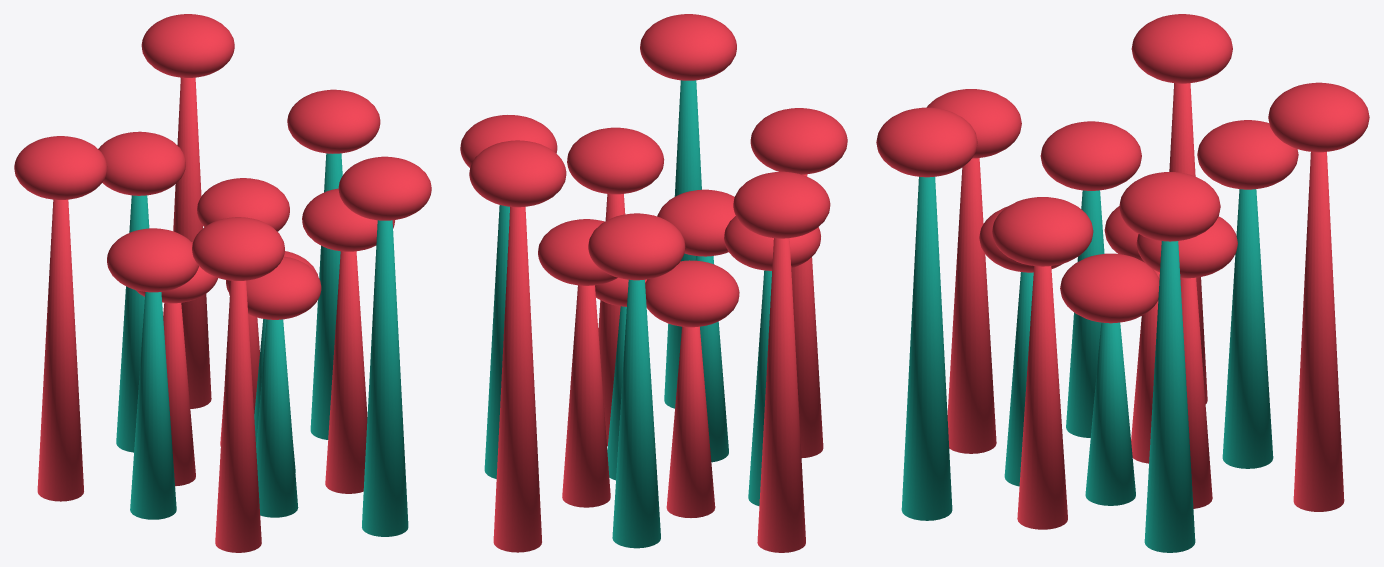
The model's file is coral.glb.
3 renders of one model, left to right at view 1: azimuth 30°, elevation 25°; view 2: azimuth 150°, elevation 25°; view 3: azimuth 270°, elevation 25°, orthographic. The views are drawn at different scales.
Visible parts, largest first — view 1: coral; view 2: coral; view 3: coral.
Boxes of the visible parts, x1,y1,x2,y2 form: coral: (14,14,431,552); coral: (460,14,847,552); coral: (876,14,1369,552).
Bounding box in the file's own units: 1.72 × 1.79 × 1.95.
Materials: 2 (2 with a texture image).
